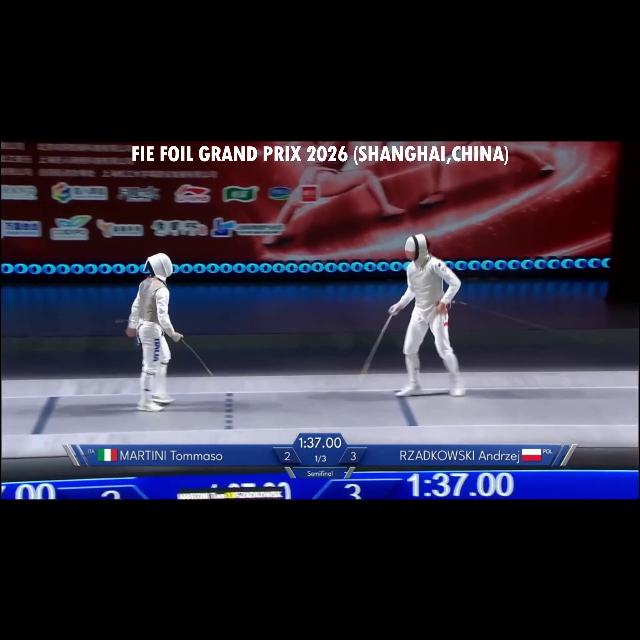blade: (354, 302, 404, 392), (168, 329, 222, 383)
